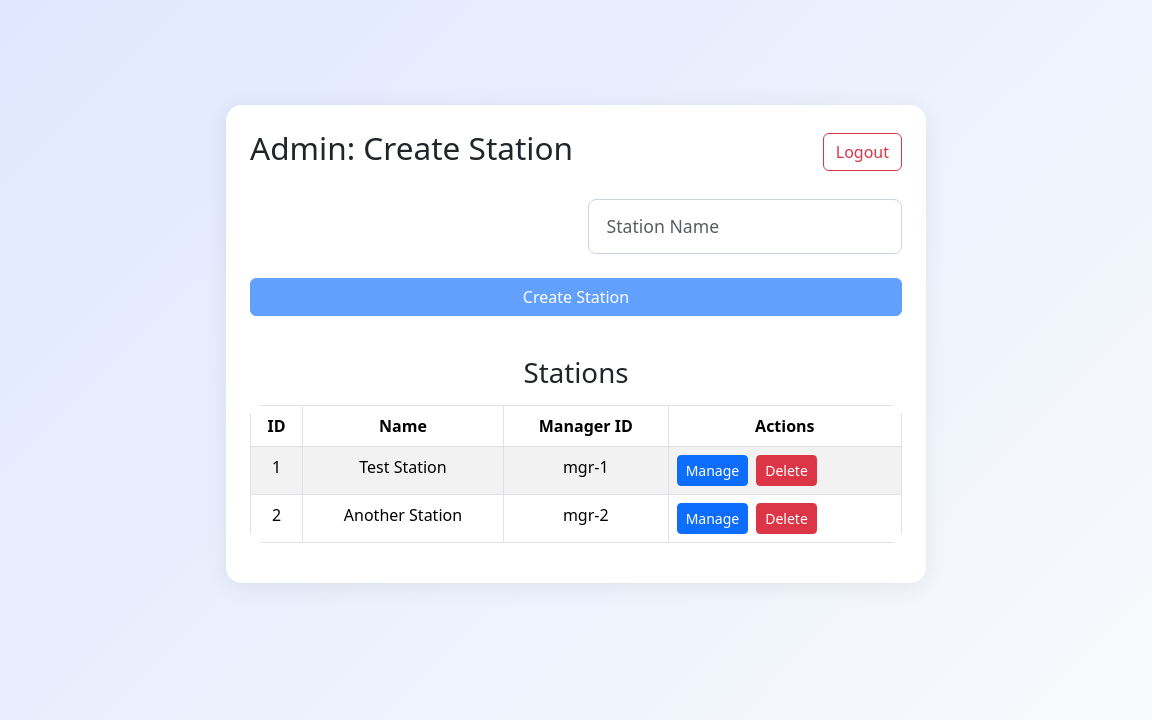
Test: AdminPanel › Error Handling › handles station creation error
Expected: the heading "Admin: Create Station" is shown, top-left (250, 129), bottom-right (573, 167)
Type "Duplicate Station" into the field with placeholder "Station Name" at (745, 226), box top-left (588, 199), bottom-right (902, 254)
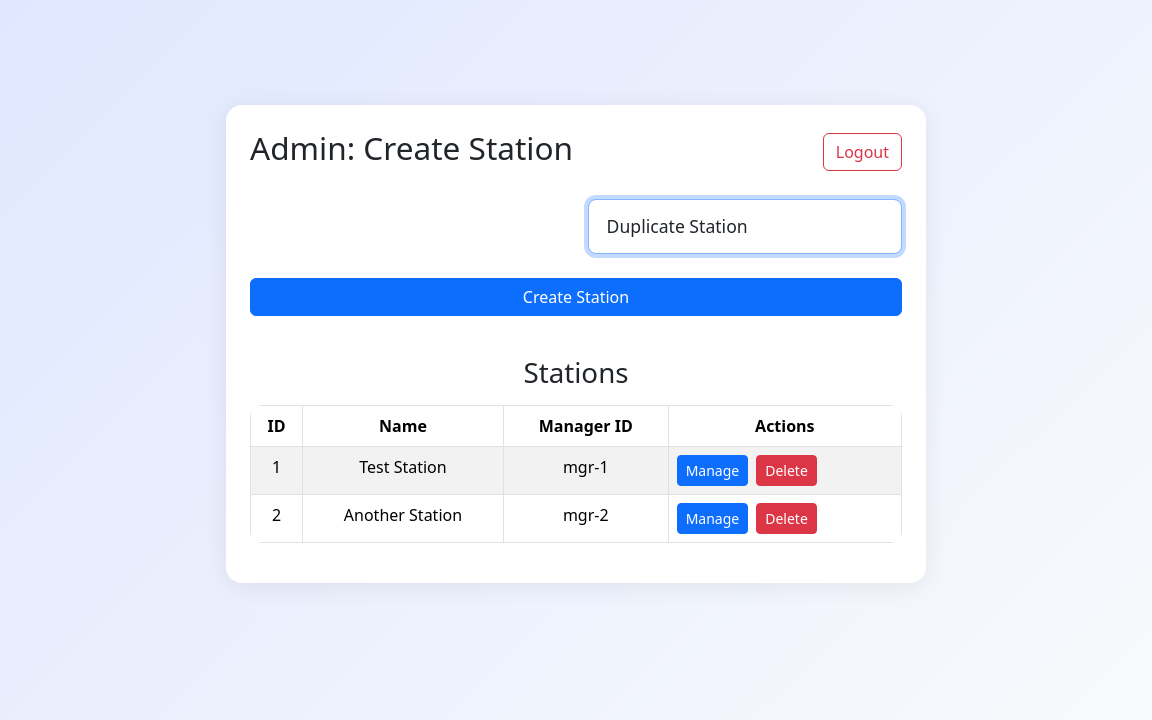
Click the button "Create Station" at (576, 297), box top-left (250, 278), bottom-right (902, 316)
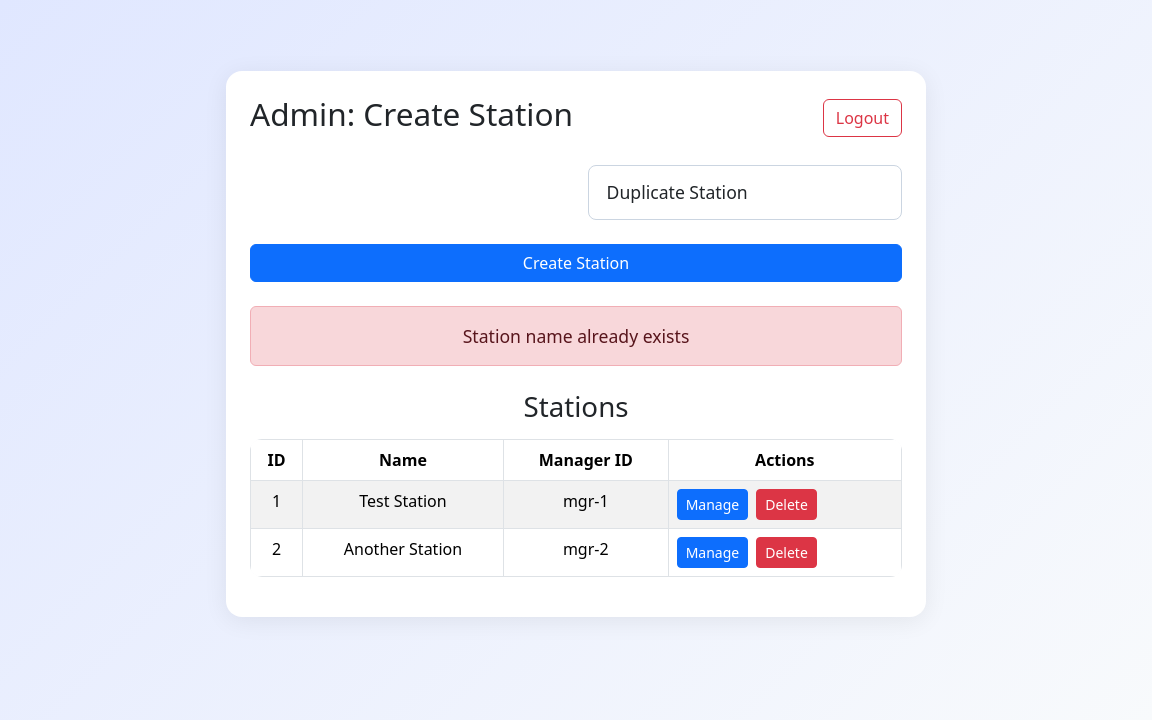
Expected: the text "Station name already exists" is shown, top-left (250, 306), bottom-right (902, 366)
